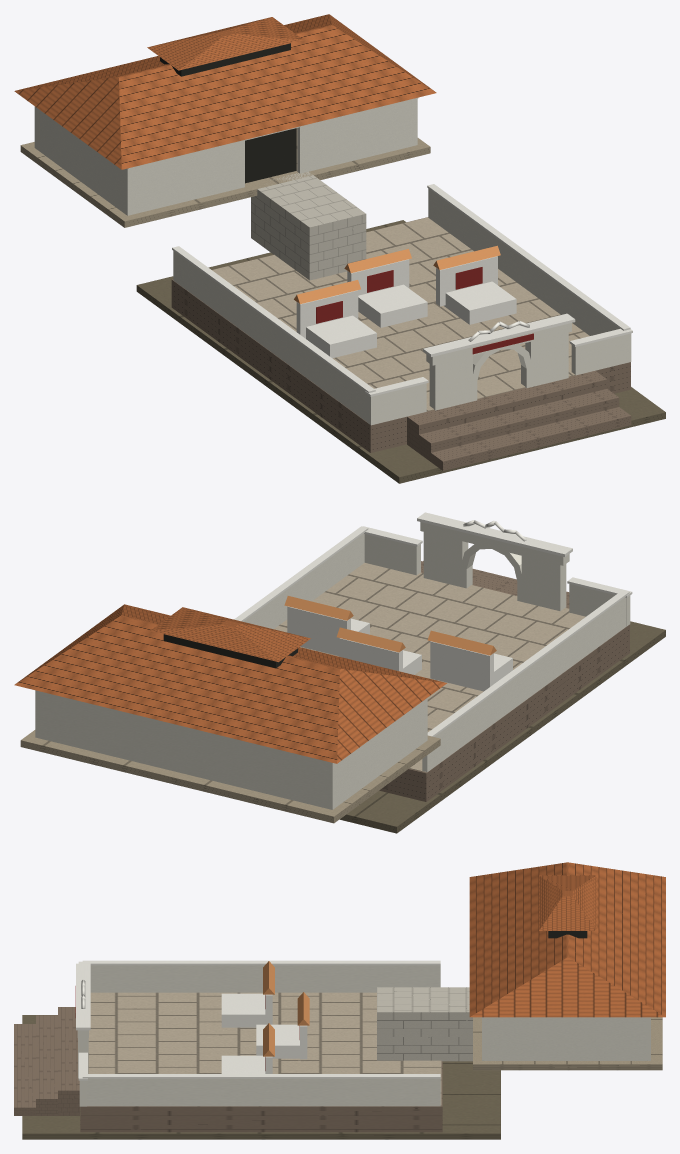
File: thoai-ngoc-hau-lod.glb
3 views of the same model, one above another, from view 1: azimuth 30°, elevation 25°; view 2: azimuth 150°, elevation 25°; view 3: azimuth 270°, elevation 25° (orthographic). The views are drawn at different scales.
Parts seen in each view (by area): view 1: thoai-ngoc-hau-far; view 2: thoai-ngoc-hau-far; view 3: thoai-ngoc-hau-far.
Boxes of the visible parts, x1,y1,x2,y2 form: thoai-ngoc-hau-far: (14, 14, 665, 483); thoai-ngoc-hau-far: (14, 512, 665, 833); thoai-ngoc-hau-far: (14, 862, 665, 1139).
Size of the model in its own units: 20.1 by 12.24 by 39.5.
Materials: 1 (1 with a texture image).
